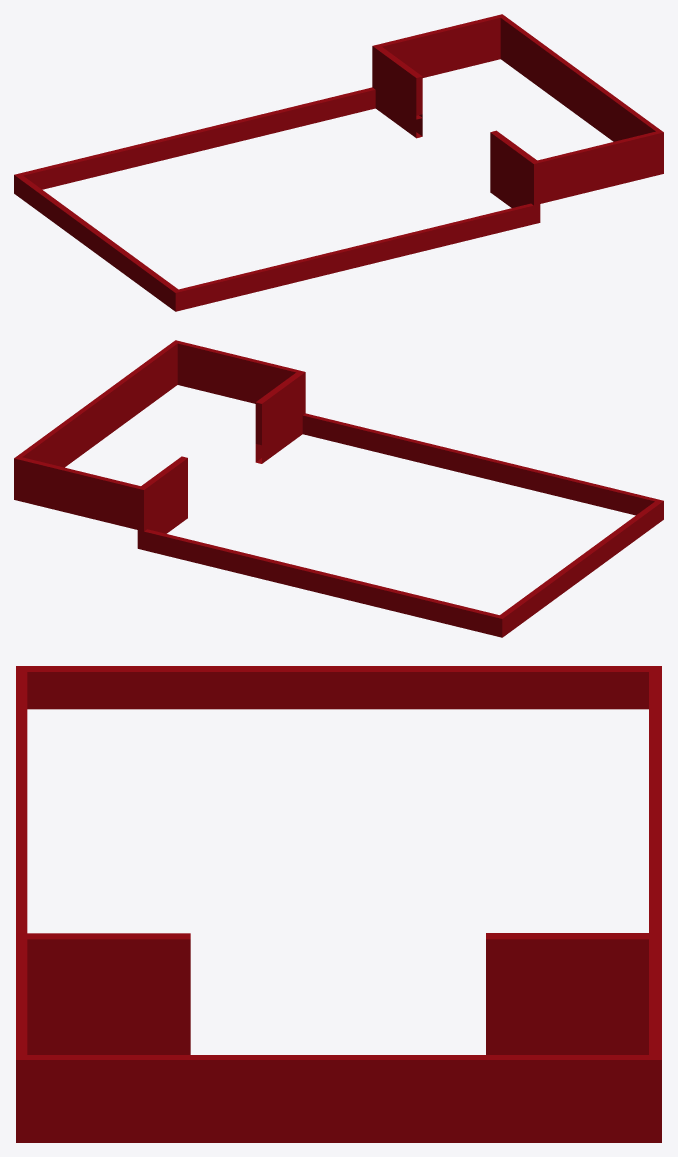
File: IRGLM_Lindsay_ramp_RedWalls.fbx
3 views of the same model, one above another, from view 1: azimuth 30°, elevation 25°; view 2: azimuth 150°, elevation 25°; view 3: azimuth 270°, elevation 25° (orthographic). The views are drawn at different scales.
Parts seen in each view (by area): view 1: RedWalls; view 2: RedWalls; view 3: RedWalls.
Part boxes in pixels (x1,y1,x2,y2): RedWalls: [14, 14, 663, 311]; RedWalls: [14, 340, 663, 637]; RedWalls: [16, 666, 661, 1142].
Size of the model in its own units: 1382 by 163 by 792.
